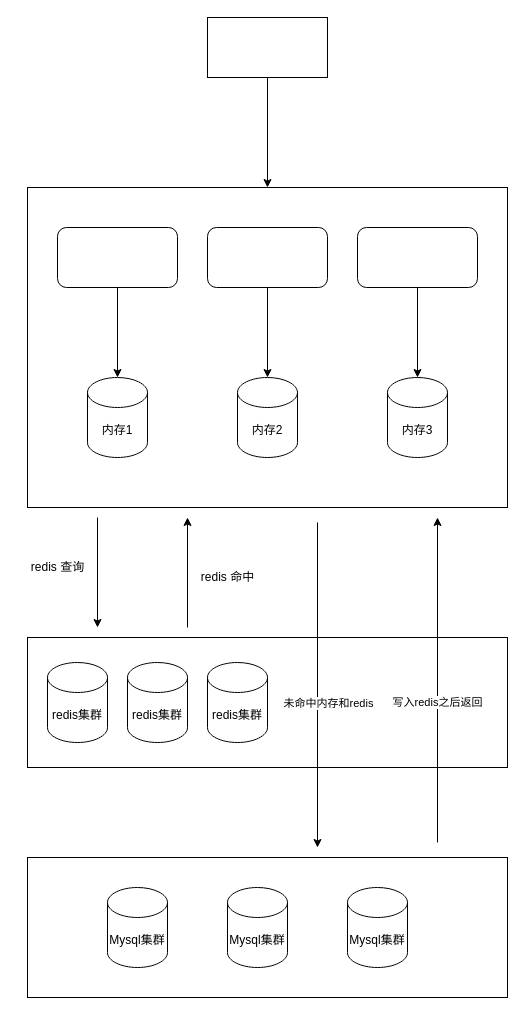
Some shapes in this 525 by 1015 pixel diagram are drawn without their labels. The centre of each missing label's shape, as x and y in pixels:
client: the point at 267,47
service1: the point at 117,257
service2: the point at 267,257
service3: the point at 417,257
